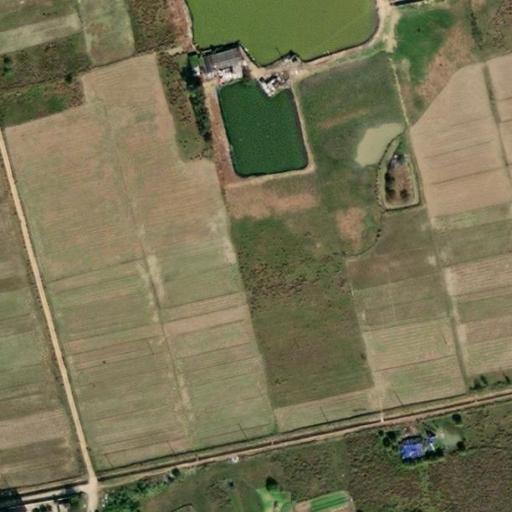building: (396, 435, 425, 460), (199, 47, 229, 69)
